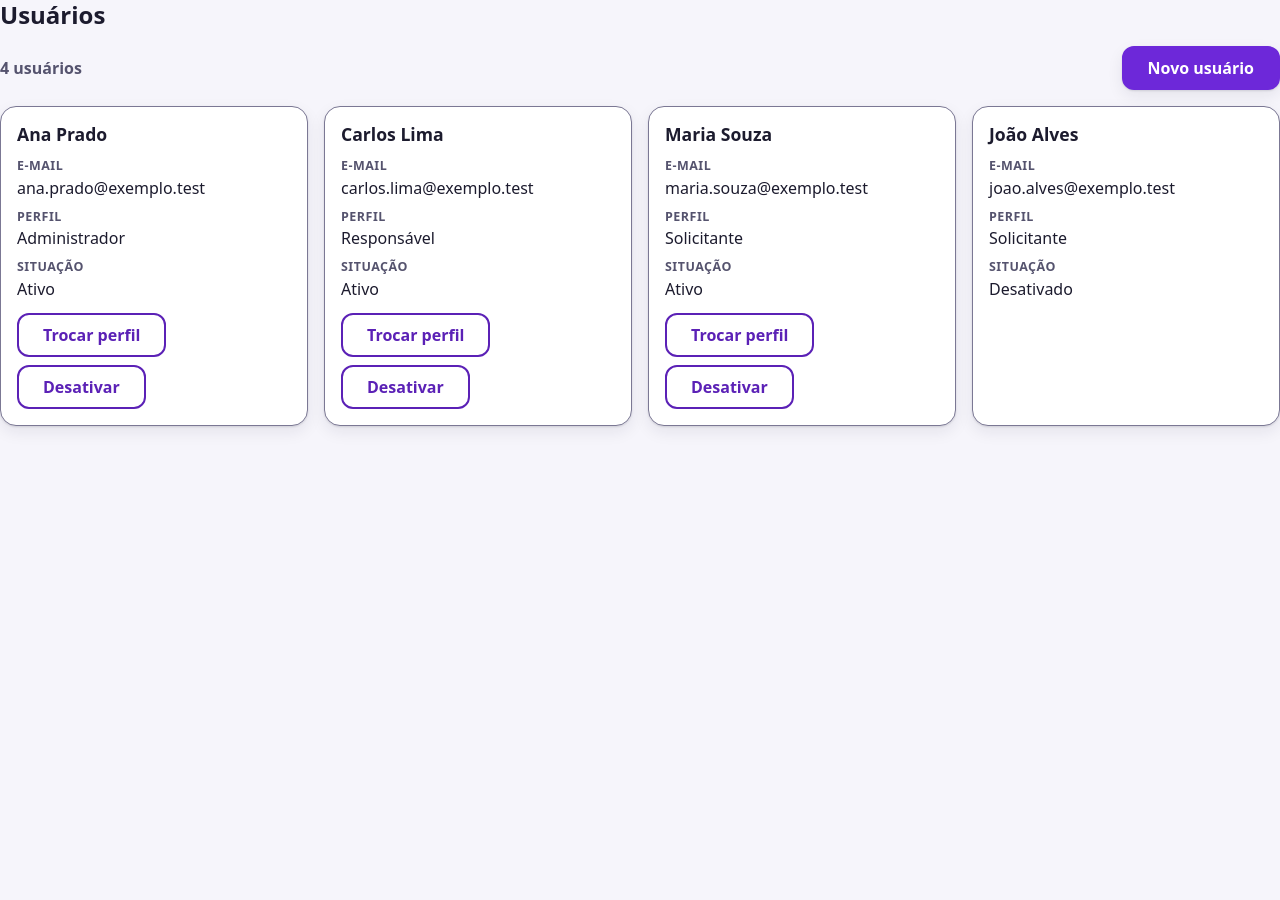
Scenario: PaginaDeUsuarios: cadastro (RF-15) › cadastra com os dados informados, sem espaços nas pontas, e anuncia com o foco
Click the button "Novo usuário".
click(1201, 68)  # box [1122,46,1279,90]
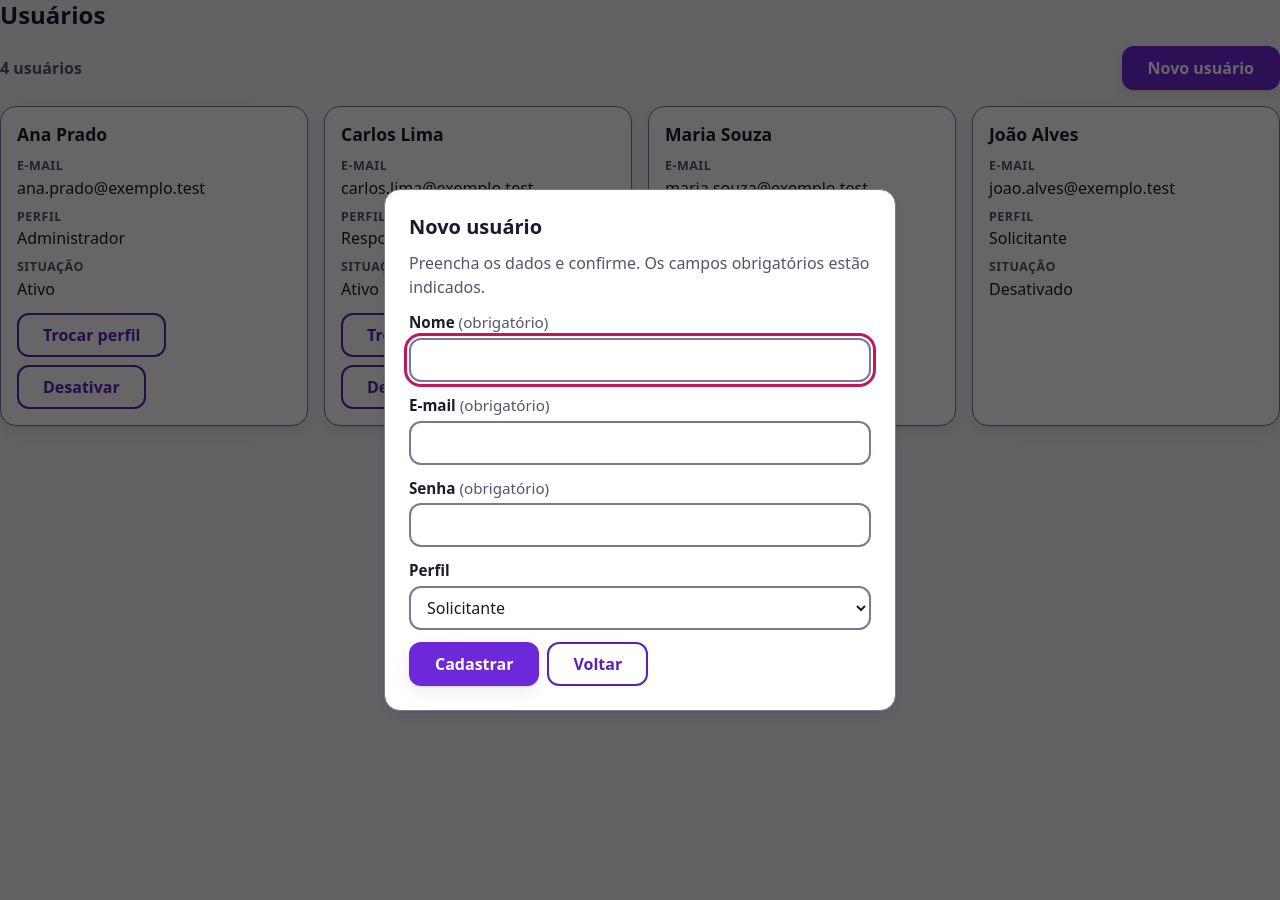
Type "  Rita Gomes " into the field labelled "Nome (obrigatório)".
click(640, 360); type("  Rita Gomes ")  # box [409,338,871,382]
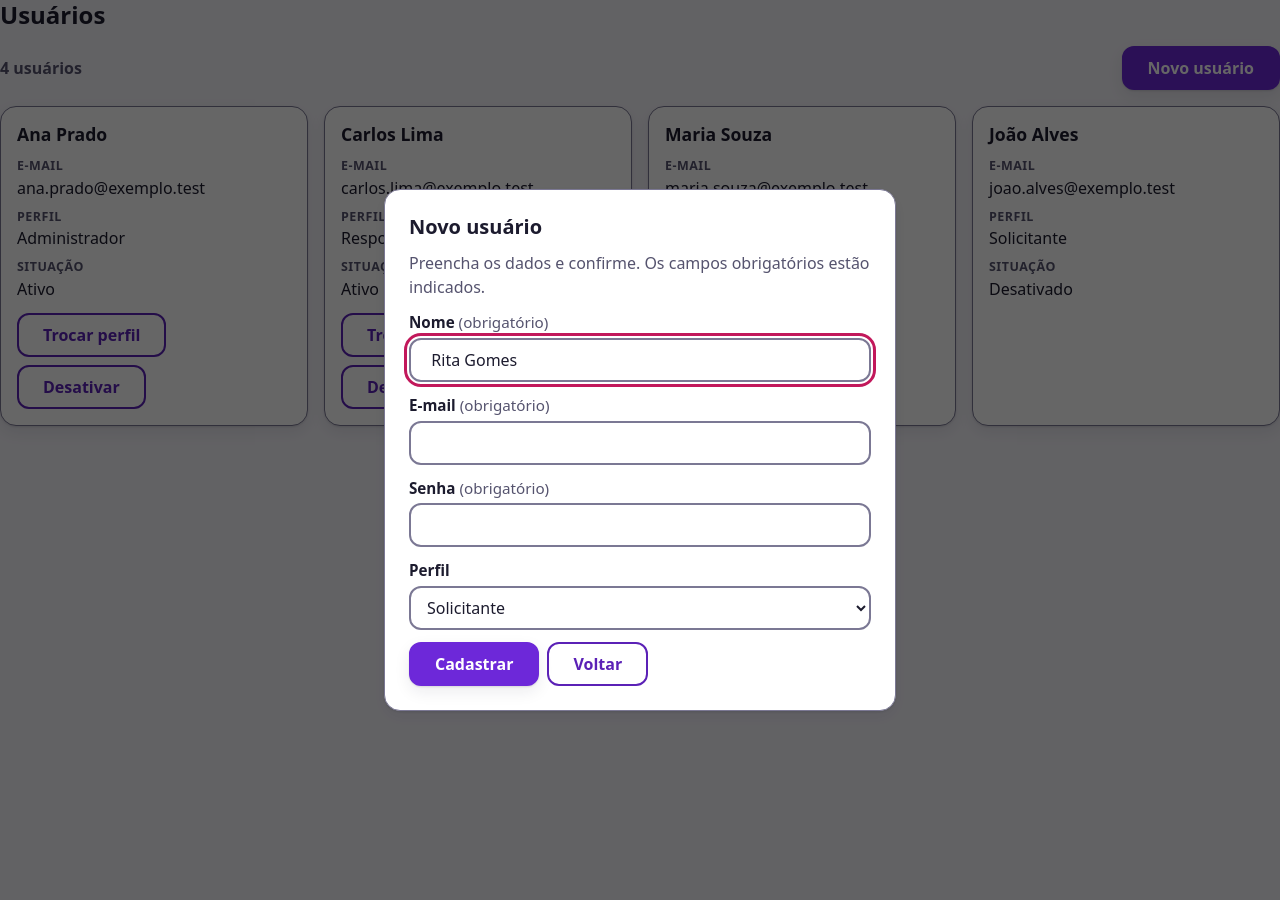
Type " rita.gomes@exemplo.test " into the field labelled "E-mail (obrigatório)".
click(640, 442); type(" rita.gomes@exemplo.test ")  # box [409,420,871,464]
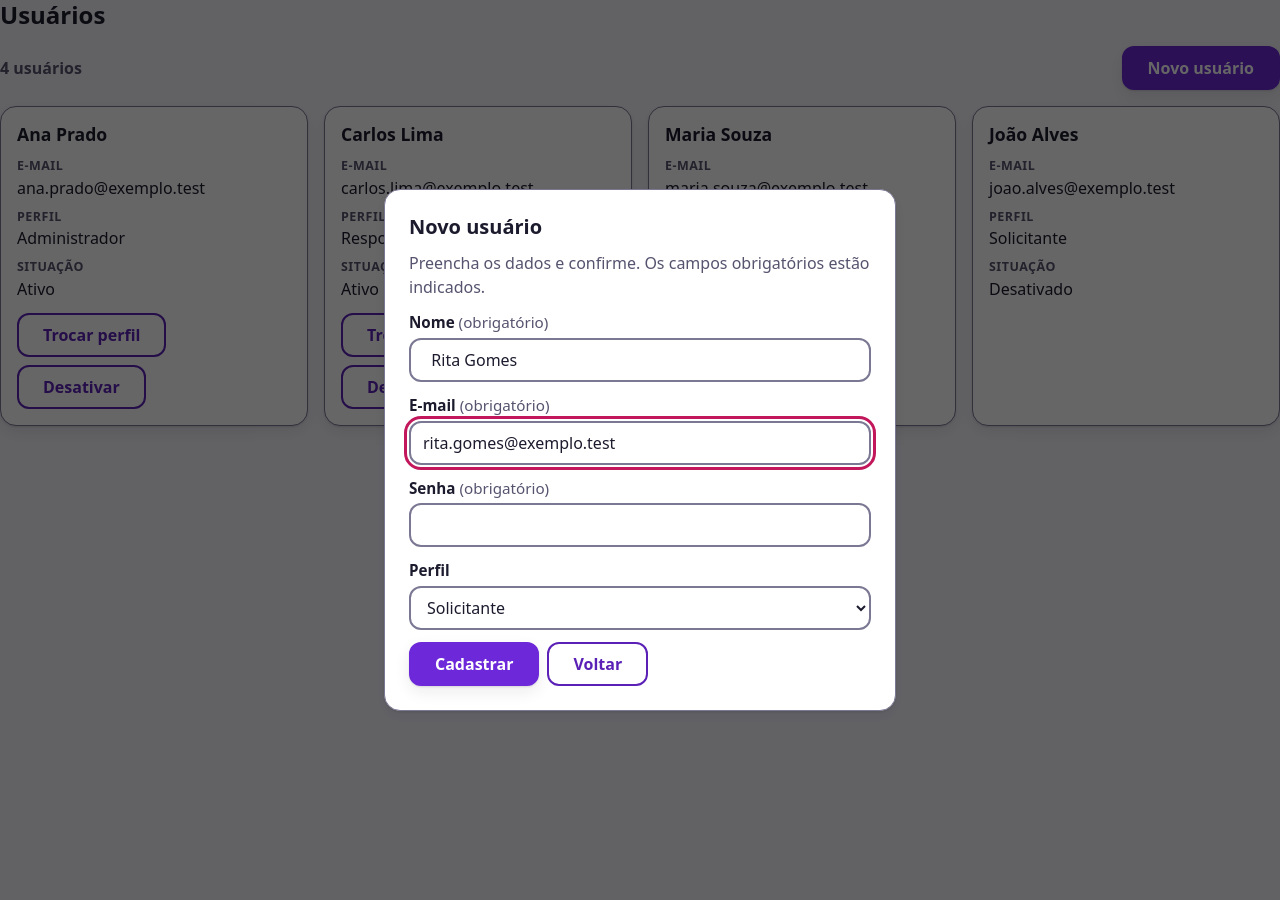
Type "senha-de-teste-1" into the password field labelled "Senha (obrigatório)".
click(640, 525); type("senha-de-teste-1")  # box [409,503,871,547]
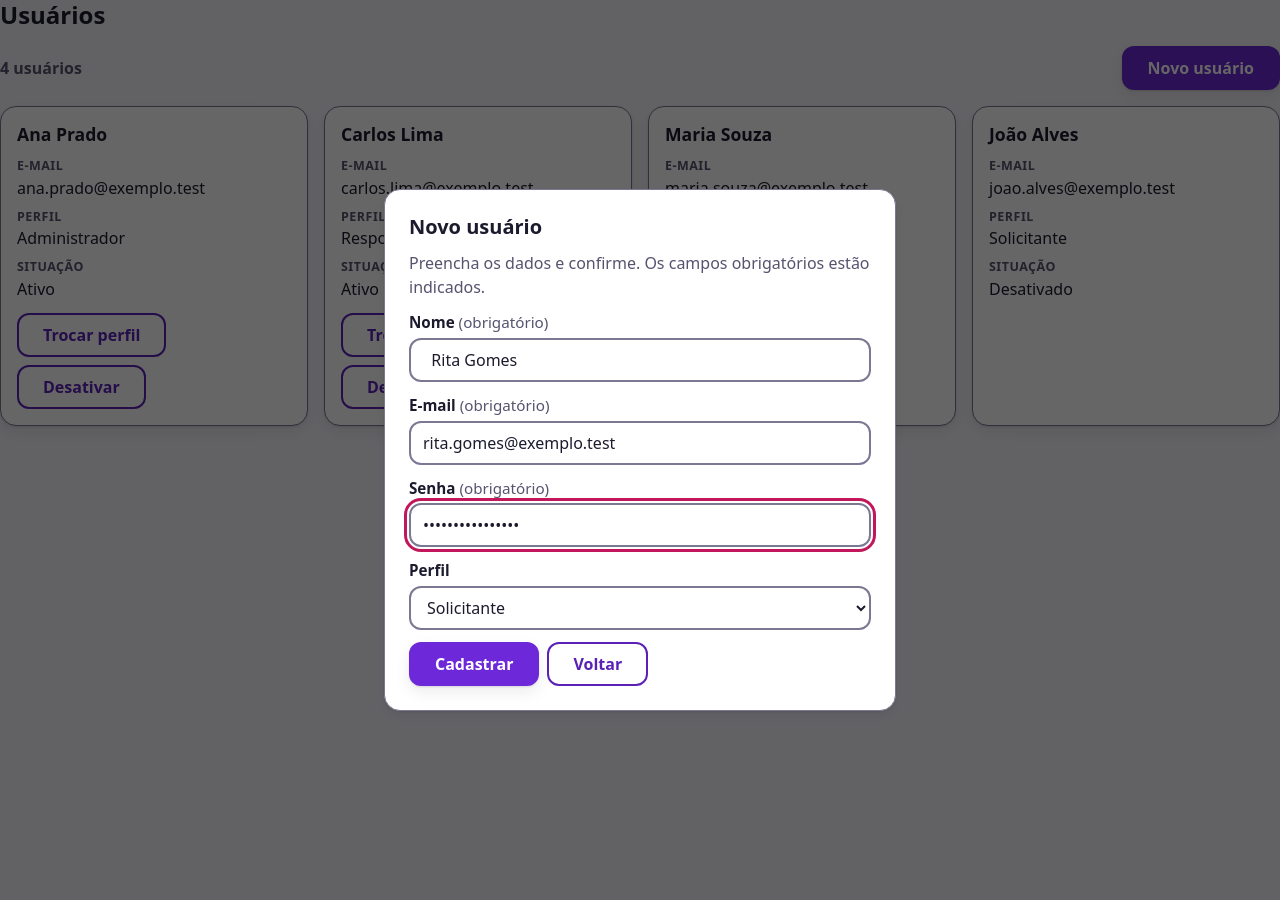
Select "Responsável" in the dropdown labelled "Perfil" at {"x": 640, "y": 608}, box [409,586,871,630]
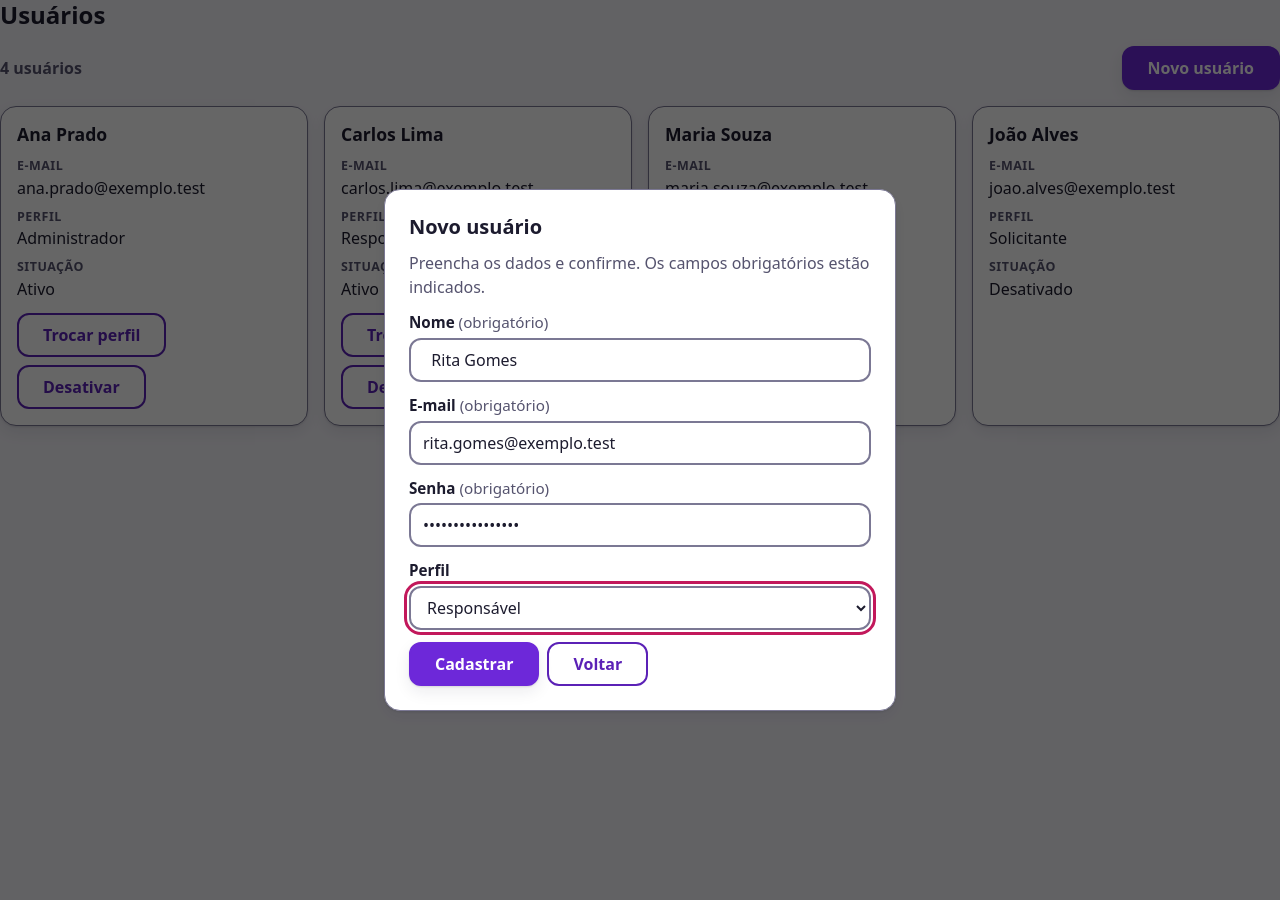
Click the button "Cadastrar".
click(474, 664)  # box [409,642,539,686]
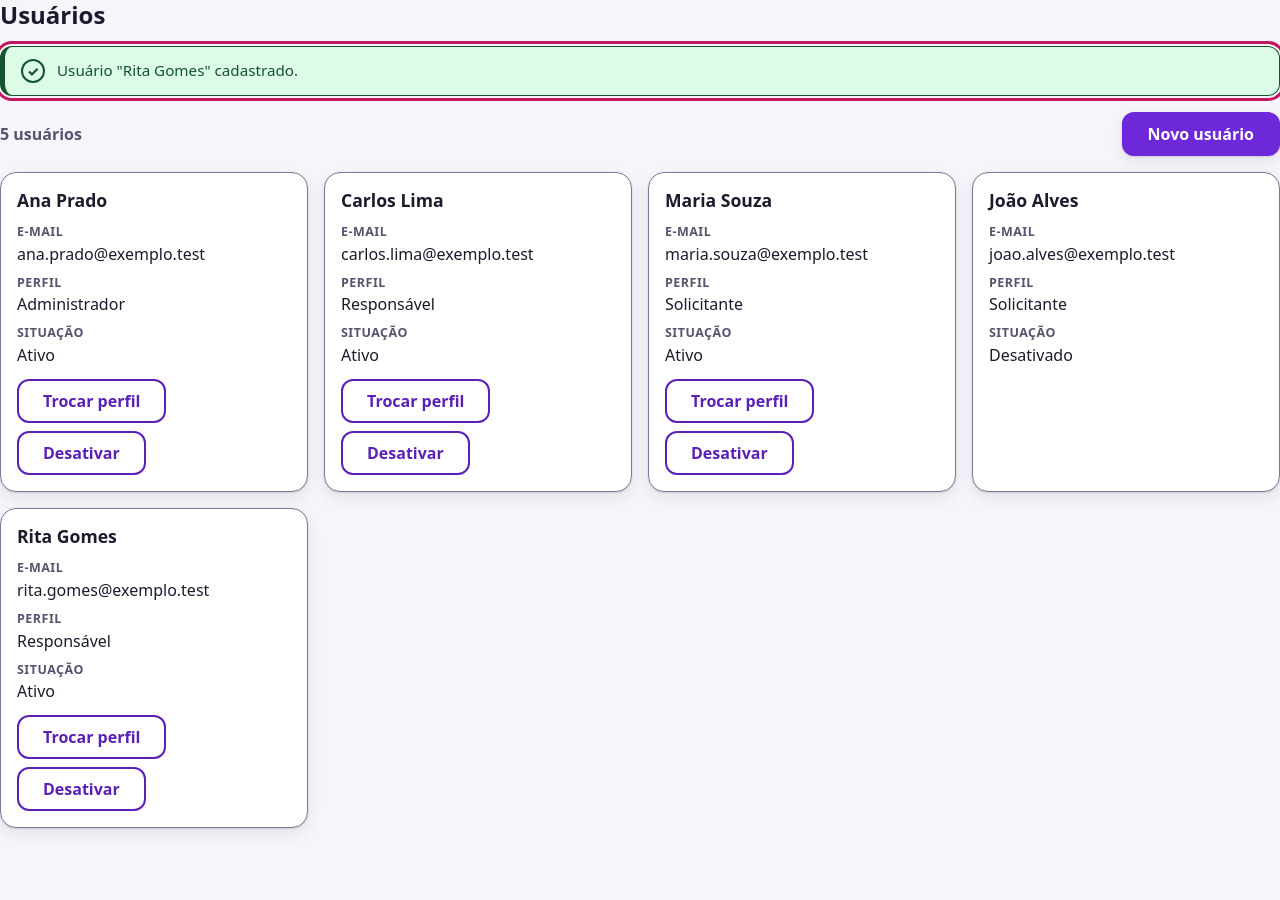
Expected: the dialog is gone
